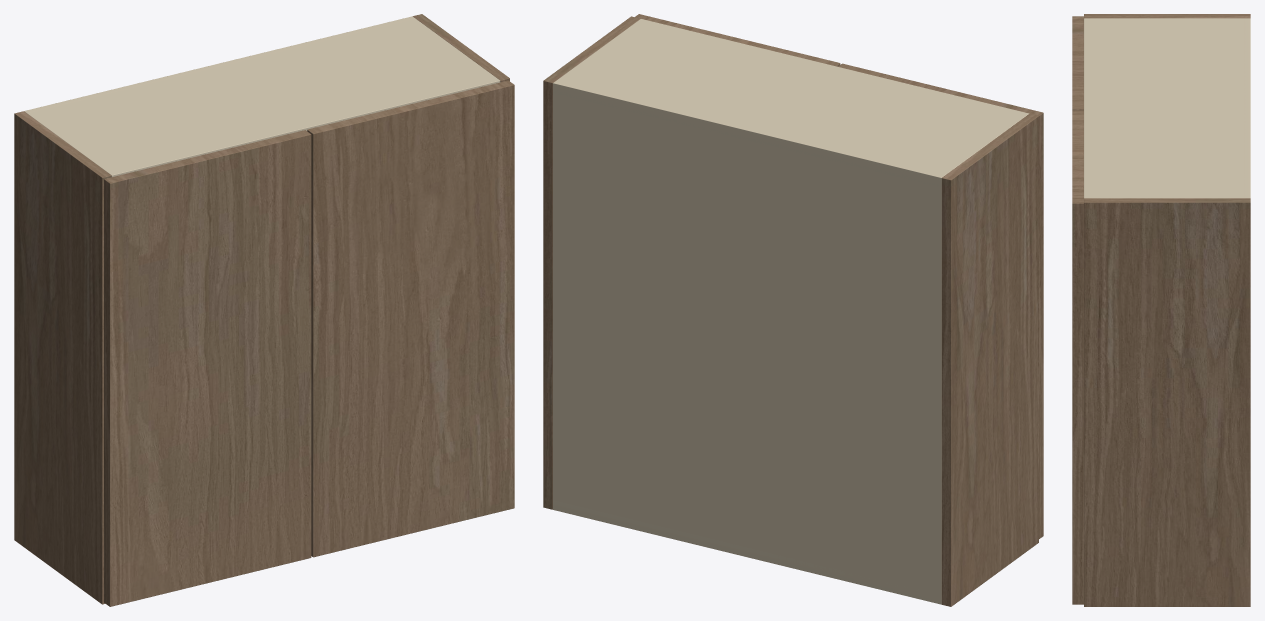
File: oppein-ply-mnw-w3030.glb
3 renders of one model, left to right at view 1: azimuth 30°, elevation 25°; view 2: azimuth 150°, elevation 25°; view 3: azimuth 270°, elevation 25°, orthographic. The views are drawn at different scales.
Parts seen in each view (by area): view 1: Door, Door.001, Cabinet side, Cabinet top, Cabinet back, Cabinet side.001; view 2: Cabinet back, Cabinet side, Cabinet top, Cabinet side.001, Cabinet bottom, Door, Door.001; view 3: Cabinet side.001, Cabinet top, Door.001, Cabinet back, Door, Cabinet side.
Boxes of the visible parts, left/top/right/bottom form: Door: left=104, top=130, right=311, bottom=606; Door.001: left=307, top=80, right=514, bottom=557; Cabinet side: left=14, top=111, right=111, bottom=604; Cabinet top: left=24, top=16, right=500, bottom=176; Cabinet back: left=24, top=16, right=415, bottom=113; Cabinet side.001: left=413, top=14, right=509, bottom=82; Cabinet back: left=553, top=80, right=944, bottom=604; Cabinet side: left=941, top=113, right=1038, bottom=606; Cabinet top: left=553, top=19, right=1029, bottom=186; Cabinet side.001: left=543, top=16, right=640, bottom=509; Cabinet bottom: left=553, top=500, right=941, bottom=604; Door: left=838, top=63, right=1043, bottom=538; Door.001: left=635, top=14, right=840, bottom=66; Cabinet side.001: left=1084, top=198, right=1250, bottom=606; Cabinet top: left=1084, top=18, right=1250, bottom=198; Door.001: left=1072, top=110, right=1083, bottom=604; Cabinet back: left=1244, top=18, right=1250, bottom=198; Door: left=1072, top=16, right=1083, bottom=110; Cabinet side: left=1084, top=14, right=1250, bottom=18.
Size of the model in its own units: 0.762 by 0.762 by 0.3048.
Materials: 2 (1 with a texture image).
